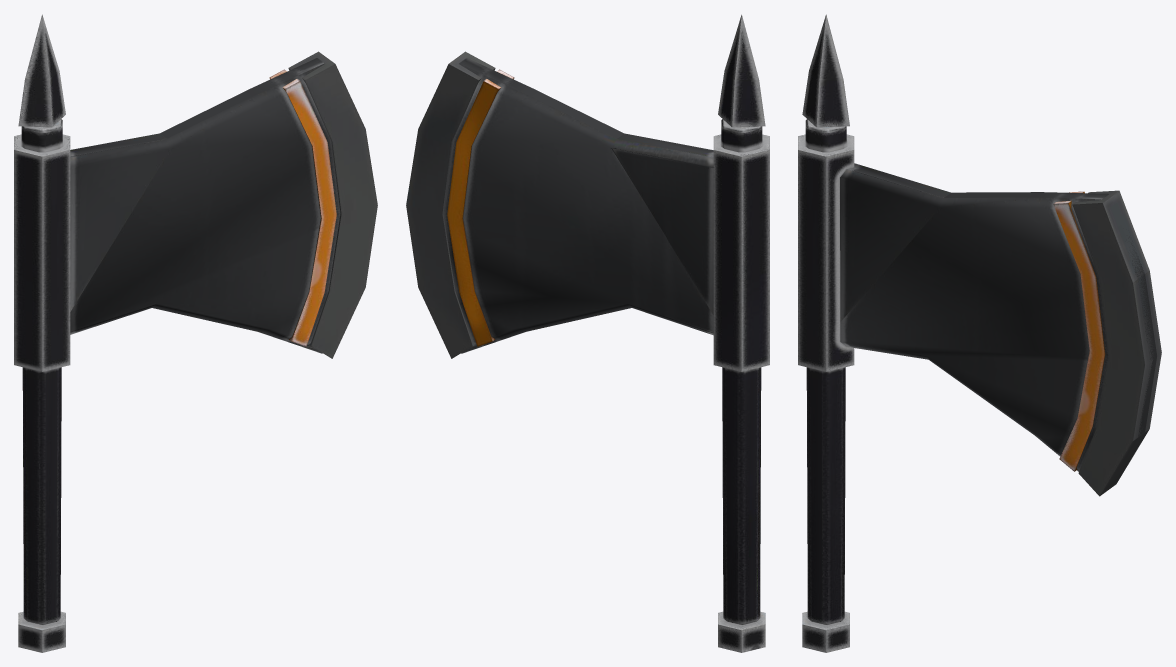
Rendered from 07_004_black_axe.glb.
3 renders of one model, left to right at view 1: azimuth 30°, elevation 25°; view 2: azimuth 150°, elevation 25°; view 3: azimuth 330°, elevation 25°, orthographic.
Visible parts, largest first — view 1: BlackAxe; view 2: BlackAxe; view 3: BlackAxe.
Part boxes in pixels (x1=…): BlackAxe: x1=14, y1=14, x2=377, y2=652; BlackAxe: x1=406, y1=14, x2=769, y2=652; BlackAxe: x1=798, y1=14, x2=1161, y2=652.
Bounding box in the file's own units: 0.1352 × 0.2281 × 0.0185.
1 material, 1 textured.
